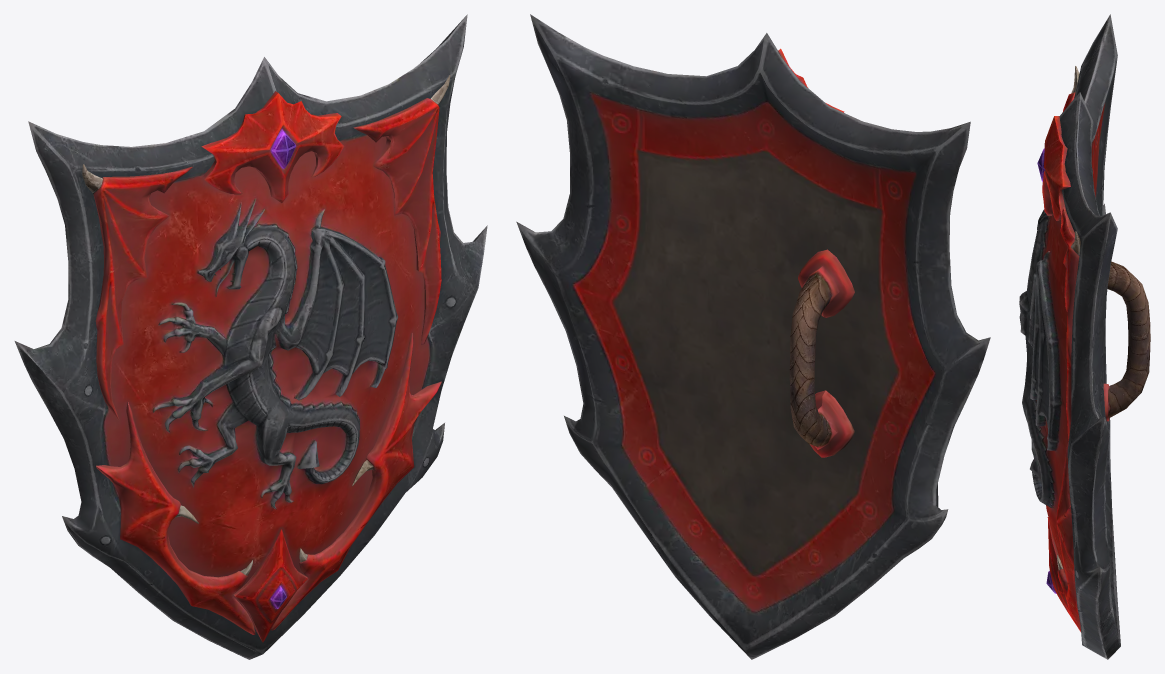
3 views of the same model, side by side, from view 1: azimuth 30°, elevation 25°; view 2: azimuth 150°, elevation 25°; view 3: azimuth 270°, elevation 25° (orthographic). The views are drawn at different scales.
Visible parts, largest first — view 1: SM_Kite_Dragon_1H_01_LOD0; view 2: SM_Kite_Dragon_1H_01_LOD0; view 3: SM_Kite_Dragon_1H_01_LOD0.
Part boxes in pixels (x1,y1,x2,y2): SM_Kite_Dragon_1H_01_LOD0: [14, 14, 487, 659]; SM_Kite_Dragon_1H_01_LOD0: [516, 14, 990, 659]; SM_Kite_Dragon_1H_01_LOD0: [1019, 14, 1150, 659].
Bounding box in the file's own units: 0.889 × 1.1 × 0.2309.
Materials: 1 (1 with a texture image).
